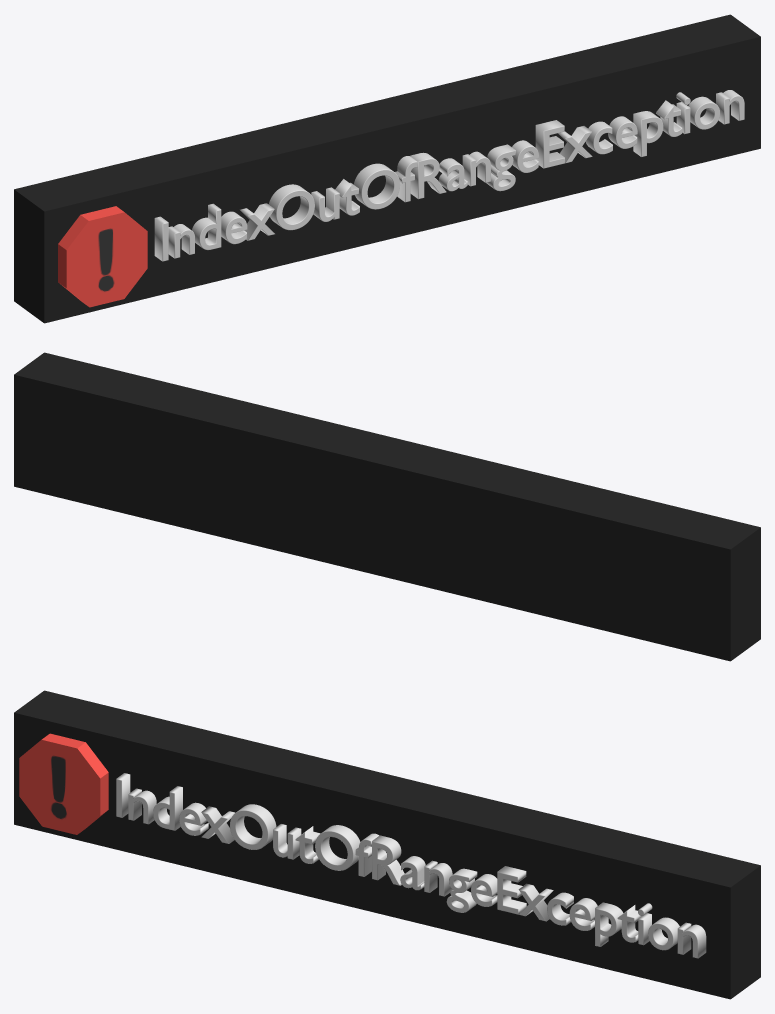
Rendered from IndexOutOfRangeException1.fbx.
3 renders of one model, top to bottom at view 1: azimuth 30°, elevation 25°; view 2: azimuth 150°, elevation 25°; view 3: azimuth 330°, elevation 25°, orthographic.
Visible parts, largest first — view 1: nooo2.002, IndexOutOfRangeException.001; view 2: nooo2.002; view 3: nooo2.002, IndexOutOfRangeException.001.
Part boxes in pixels (left/top/right/bottom): nooo2.002: left=14, top=14, right=760, bottom=323; IndexOutOfRangeException.001: left=154, top=90, right=744, bottom=261; nooo2.002: left=14, top=352, right=760, bottom=661; nooo2.002: left=14, top=690, right=760, bottom=999; IndexOutOfRangeException.001: left=116, top=773, right=706, bottom=958.
Bounding box in the file's own units: 2646 × 395 × 249.
